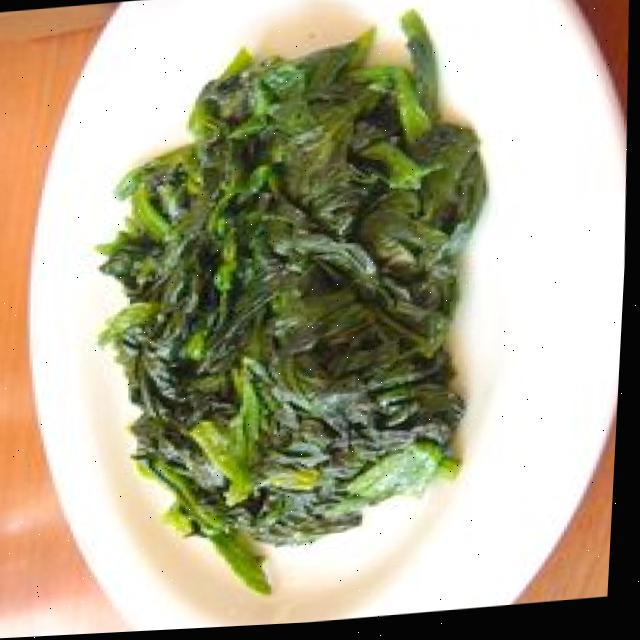蔬菜料理: (56, 0, 542, 637)
